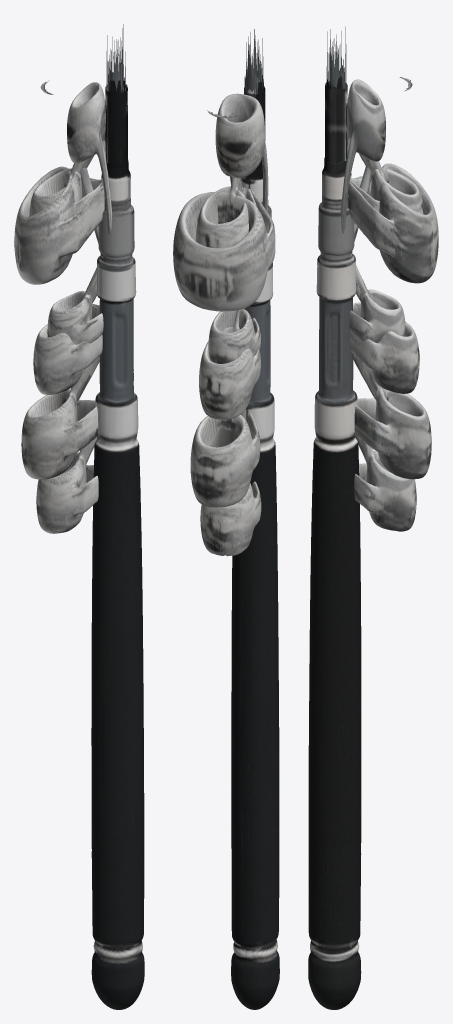
The model's file is feeder_ironwood.glb.
The picture shows the model from 3 angles, left to right: view 1: azimuth 90°, elevation 25°; view 2: azimuth 150°, elevation 25°; view 3: azimuth 270°, elevation 25°; orthographic projection.
Visible parts, largest first — view 1: Handle, Seg0, Seg2, Seg7, Seg9, Seg5, Seg8, Seg3; view 2: Handle, Seg0, Seg2, Seg9, Seg5, Seg7, Seg8, Seg3, Seg1; view 3: Handle, Seg0, Seg2, Seg7, Seg9, Seg5, Seg8, Seg3, Seg1.
Boxes of the visible parts, x1,y1,x2,y2 form: Handle: [91, 160, 144, 1009]; Seg0: [14, 84, 127, 284]; Seg2: [21, 37, 125, 479]; Seg7: [36, 28, 122, 533]; Seg9: [67, 82, 112, 242]; Seg5: [33, 24, 123, 394]; Seg8: [47, 44, 122, 344]; Seg3: [29, 72, 125, 216]; Handle: [231, 165, 279, 1009]; Seg0: [173, 86, 275, 311]; Seg2: [190, 36, 263, 507]; Seg9: [215, 93, 268, 211]; Seg5: [199, 55, 260, 419]; Seg7: [200, 29, 261, 556]; Seg8: [208, 32, 260, 363]; Seg3: [195, 75, 263, 247]; Seg1: [245, 38, 263, 93]; Handle: [308, 157, 361, 1009]; Seg0: [325, 82, 438, 283]; Seg2: [327, 26, 431, 479]; Seg7: [330, 29, 416, 531]; Seg9: [340, 79, 385, 241]; Seg5: [329, 47, 419, 393]; Seg8: [332, 52, 405, 342]; Seg3: [327, 70, 423, 214]; Seg1: [326, 31, 346, 88].
Size of the model in its own units: 0.0637 by 0.6791 by 0.0807.
Materials: 1 (1 with a texture image).
